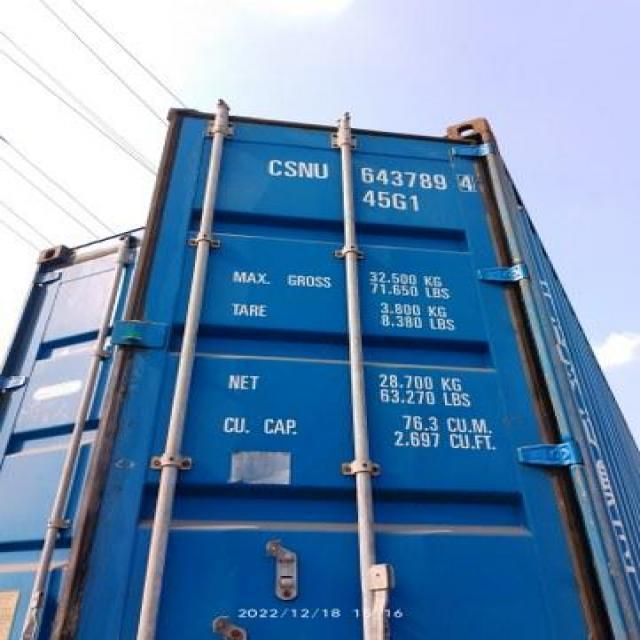ISO: (363, 192, 423, 212)
container_number: (266, 156, 483, 186), (314, 163, 471, 192)
